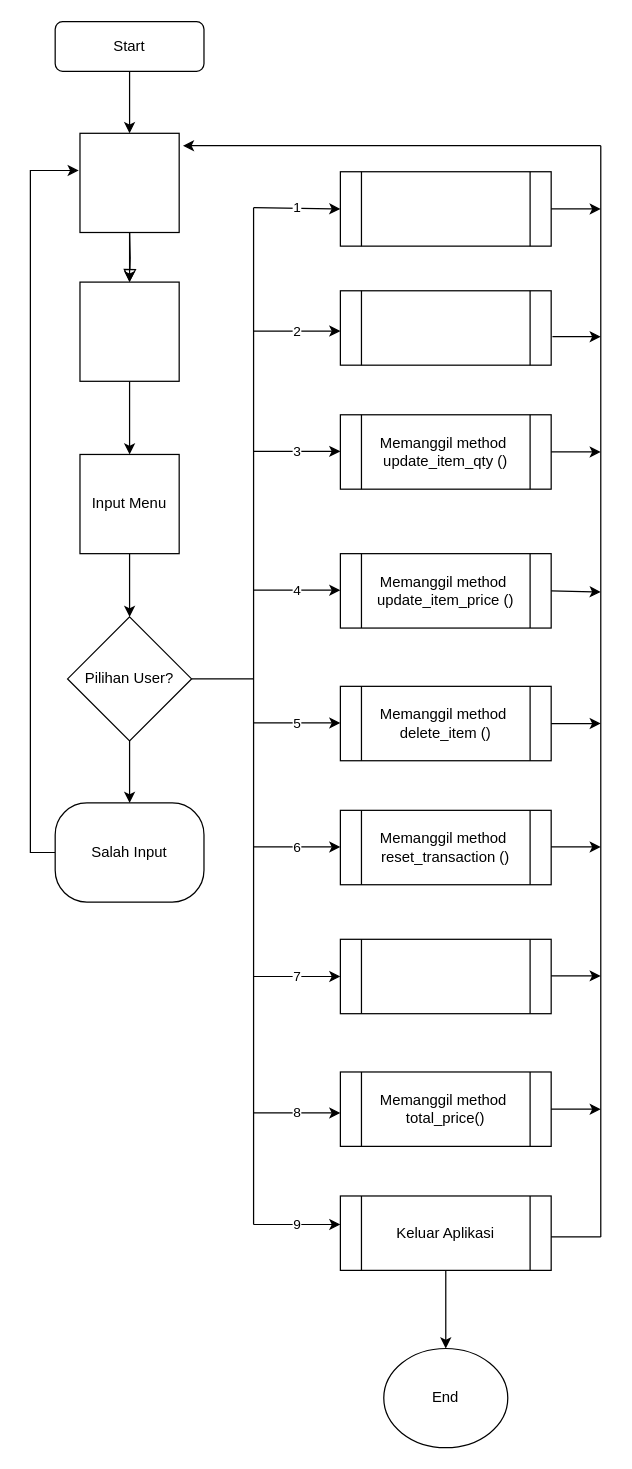
Image size: 632x1469. Some labels were removed from this diagram. Here are the shapes that lost their labels. From the top down, the centre of each, then its label:
pixel 129 182: Transaksi ID
pixel 445 208: Memanggil method add_item ()
pixel 129 331: Menu
pixel 445 327: Memanggil method update_item_name ()
pixel 445 976: Memanggil method check_order()
